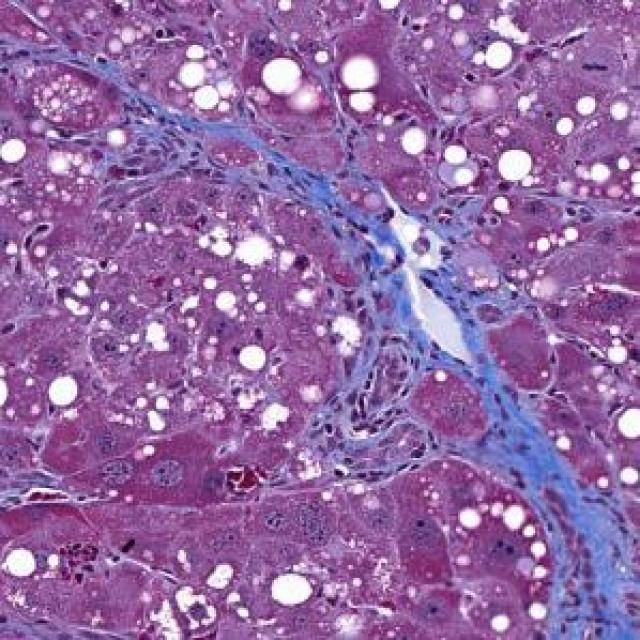fibrosis: (338, 210, 554, 475), (182, 112, 360, 236), (526, 498, 640, 640)
